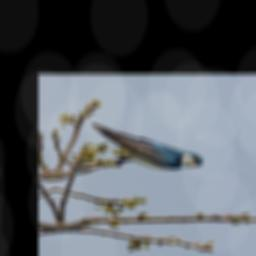Swallow: (88, 115, 209, 177)
